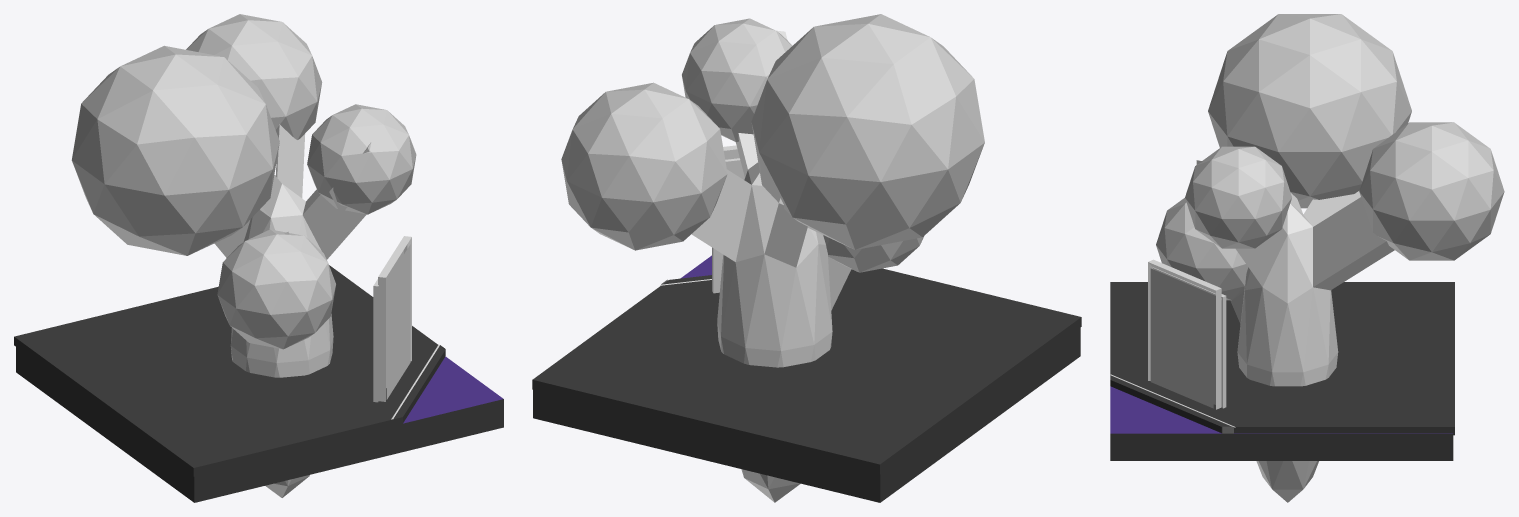
The model's file is curb_5_corner.fbx.
3 views of the same model, side by side, from view 1: azimuth 30°, elevation 25°; view 2: azimuth 150°, elevation 25°; view 3: azimuth 270°, elevation 25° (orthographic). The views are drawn at different scales.
Parts seen in each view (by area): view 1: Ground Riser.014, Icosphere.017, Ground 5 - Corner, Icosphere.018, Icosphere.014, Icosphere.016, Icosphere.015, Billboard 2.007|Billboard 1.007|Dupli|2, Billboard 2.007|Billboard 1.005|Dupli|, Billboard 2.007|Billboard 1.006|Dupli|1; view 2: Ground Riser.014, Icosphere.017, Icosphere.015, Icosphere.014, Ground 5 - Corner, Icosphere.016, Icosphere.018, Billboard 2.007|Billboard 1.006|Dupli|1; view 3: Ground Riser.014, Icosphere.017, Icosphere.014, Icosphere.015, Ground 5 - Corner, Icosphere.016, Billboard 2.007|Billboard 1.007|Dupli|2, Icosphere.018, Billboard 2.007|Billboard 1.005|Dupli|, Billboard 2.007|Billboard 1.006|Dupli|1.
Part boxes in pixels (x1,y1,x2,y2): Ground Riser.014: [14, 265, 445, 476]; Icosphere.017: [71, 45, 279, 255]; Ground 5 - Corner: [16, 347, 503, 502]; Icosphere.018: [217, 229, 335, 349]; Icosphere.014: [214, 124, 371, 497]; Icosphere.016: [307, 104, 416, 214]; Icosphere.015: [186, 14, 322, 139]; Billboard 2.007|Billboard 1.007|Dupli|2: [386, 244, 410, 399]; Billboard 2.007|Billboard 1.005|Dupli|: [378, 236, 411, 401]; Billboard 2.007|Billboard 1.006|Dupli|1: [373, 279, 378, 402]; Ground Riser.014: [532, 268, 1081, 474]; Icosphere.017: [751, 14, 984, 249]; Icosphere.015: [561, 82, 727, 250]; Icosphere.014: [691, 30, 851, 502]; Ground 5 - Corner: [533, 255, 1080, 502]; Icosphere.016: [682, 18, 792, 142]; Icosphere.018: [823, 235, 923, 272]; Billboard 2.007|Billboard 1.006|Dupli|1: [712, 158, 744, 293]; Ground Riser.014: [1110, 282, 1454, 435]; Icosphere.017: [1208, 14, 1411, 208]; Icosphere.014: [1196, 160, 1394, 502]; Icosphere.015: [1359, 122, 1504, 260]; Ground 5 - Corner: [1110, 386, 1453, 460]; Icosphere.016: [1185, 146, 1291, 248]; Billboard 2.007|Billboard 1.007|Dupli|2: [1150, 268, 1213, 408]; Icosphere.018: [1156, 198, 1248, 300]; Billboard 2.007|Billboard 1.005|Dupli|: [1148, 259, 1221, 409]; Billboard 2.007|Billboard 1.006|Dupli|1: [1153, 267, 1226, 408].
Bounding box in the file's own units: 807 × 1133 × 920.
